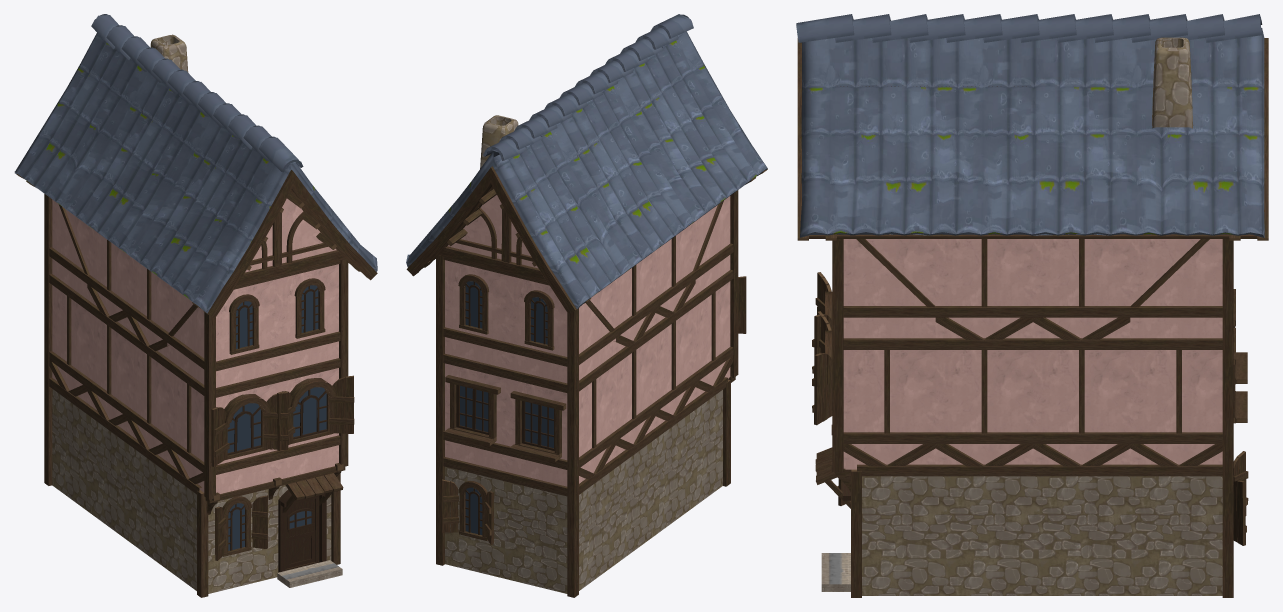
File: row_townhouse.glb
The picture shows the model from 3 angles, left to right: view 1: azimuth 30°, elevation 25°; view 2: azimuth 150°, elevation 25°; view 3: azimuth 270°, elevation 25°; orthographic projection. The views are drawn at different scales.
Visible parts, largest first — view 1: Roof_RoundTiles_4x8.071, Wall_Plaster_Window_Thin_Round+upper.053, Roof_Front_Brick4.072, Wall_Plaster_Window_Thin_Round+upper.051, Wall_Plaster_Straight+upper.040, Wall_Plaster_Straight+upper.041, Wall_UnevenBrick_Straight.012, Wall_UnevenBrick_Straight.013, Wall_Plaster_Straight+upper.039, Wall_UnevenBrick_Straight.011, Wall_Plaster_Straight+upper.042, Wall_UnevenBrick_Straight.014 (+30 smaller); view 2: Roof_RoundTiles_4x8.071, Wall_UnevenBrick_Straight.010, Wall_Plaster_Window_Thin_Round+upper.055, Roof_Front_Brick4.073, Wall_UnevenBrick_Window_Thin_Round.007, Wall_Plaster_Window_Thin_Round+upper.057, Wall_UnevenBrick_Straight.012, Wall_Plaster_Straight+upper.041, Wall_Plaster_Straight+upper.040, Wall_Plaster_Straight+upper.042, Wall_UnevenBrick_Straight.013, Wall_UnevenBrick_Straight.014 (+25 smaller); view 3: Roof_RoundTiles_4x8.071, Wall_Plaster_Straight+upper.044, Wall_Plaster_Straight+upper.045, Wall_UnevenBrick_Straight.016, Wall_UnevenBrick_Straight.017, Wall_Plaster_Straight+upper.043, Wall_Plaster_Straight+upper.046, Wall_UnevenBrick_Straight.015, Wall_UnevenBrick_Straight.018, Wall_Plaster_Straight+upper.065, Wall_Plaster_Straight+upper.064, Wall_Plaster_Straight_R+upper.066 (+14 smaller).
Part boxes in pixels (<box>): Roof_RoundTiles_4x8.071: <box>14,14,377,317</box>; Wall_Plaster_Window_Thin_Round+upper.053: <box>276,260,340,373</box>; Roof_Front_Brick4.072: <box>236,192,345,285</box>; Wall_Plaster_Window_Thin_Round+upper.051: <box>216,276,277,387</box>; Wall_Plaster_Straight+upper.040: <box>87,301,129,433</box>; Wall_Plaster_Straight+upper.041: <box>127,331,169,463</box>; Wall_UnevenBrick_Straight.012: <box>85,404,126,539</box>; Wall_UnevenBrick_Straight.013: <box>123,432,164,566</box>; Wall_Plaster_Straight+upper.039: <box>49,274,89,404</box>; Wall_UnevenBrick_Straight.011: <box>49,377,88,511</box>; Wall_Plaster_Straight+upper.042: <box>167,360,204,492</box>; Wall_UnevenBrick_Straight.014: <box>161,459,201,590</box>; Roof_RoundTiles_4x8.071: <box>406,14,767,313</box>; Wall_UnevenBrick_Straight.010: <box>505,472,567,593</box>; Wall_Plaster_Window_Thin_Round+upper.055: <box>443,256,507,368</box>; Roof_Front_Brick4.073: <box>438,189,546,281</box>; Wall_UnevenBrick_Window_Thin_Round.007: <box>443,457,507,579</box>; Wall_Plaster_Window_Thin_Round+upper.057: <box>505,272,567,383</box>; Wall_UnevenBrick_Straight.012: <box>611,432,652,567</box>; Wall_Plaster_Straight+upper.041: <box>653,297,695,429</box>; Wall_Plaster_Straight+upper.040: <box>613,326,655,458</box>; Wall_Plaster_Straight+upper.042: <box>692,270,733,400</box>; Wall_UnevenBrick_Straight.013: <box>649,405,689,539</box>; Wall_UnevenBrick_Straight.014: <box>687,377,727,511</box>; Roof_RoundTiles_4x8.071: <box>796,14,1268,240</box>; Wall_Plaster_Straight+upper.044: <box>935,338,1032,466</box>; Wall_Plaster_Straight+upper.045: <box>1033,338,1130,466</box>; Wall_UnevenBrick_Straight.016: <box>949,464,1042,595</box>; Wall_UnevenBrick_Straight.017: <box>1042,464,1134,595</box>; Wall_Plaster_Straight+upper.043: <box>843,338,935,469</box>; Wall_Plaster_Straight+upper.046: <box>1130,338,1222,466</box>; Wall_UnevenBrick_Straight.015: <box>857,464,949,595</box>; Wall_UnevenBrick_Straight.018: <box>1135,464,1222,595</box>; Wall_Plaster_Straight+upper.065: <box>1033,239,1130,339</box>; Wall_Plaster_Straight+upper.064: <box>935,239,1032,339</box>; Wall_Plaster_Straight_R+upper.066: <box>1130,239,1222,338</box>.
Bounding box in the file's own units: 5.51 × 12.84 × 10.17.
6 materials, 5 textured.
